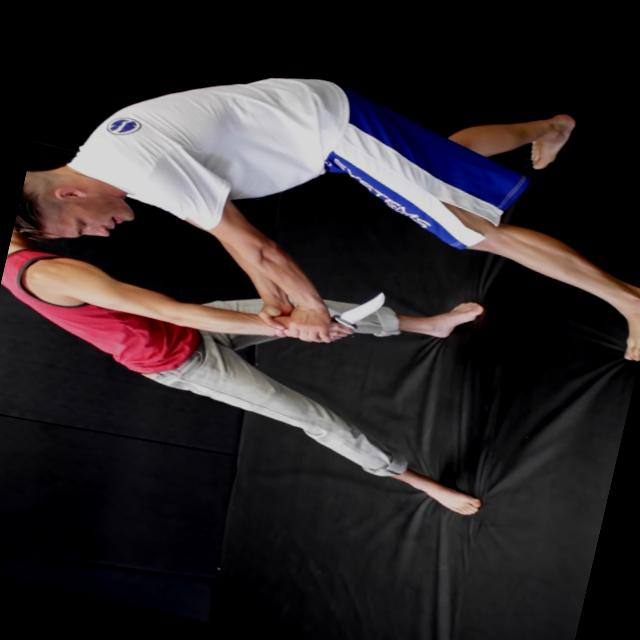knife: (316, 275, 396, 356)
